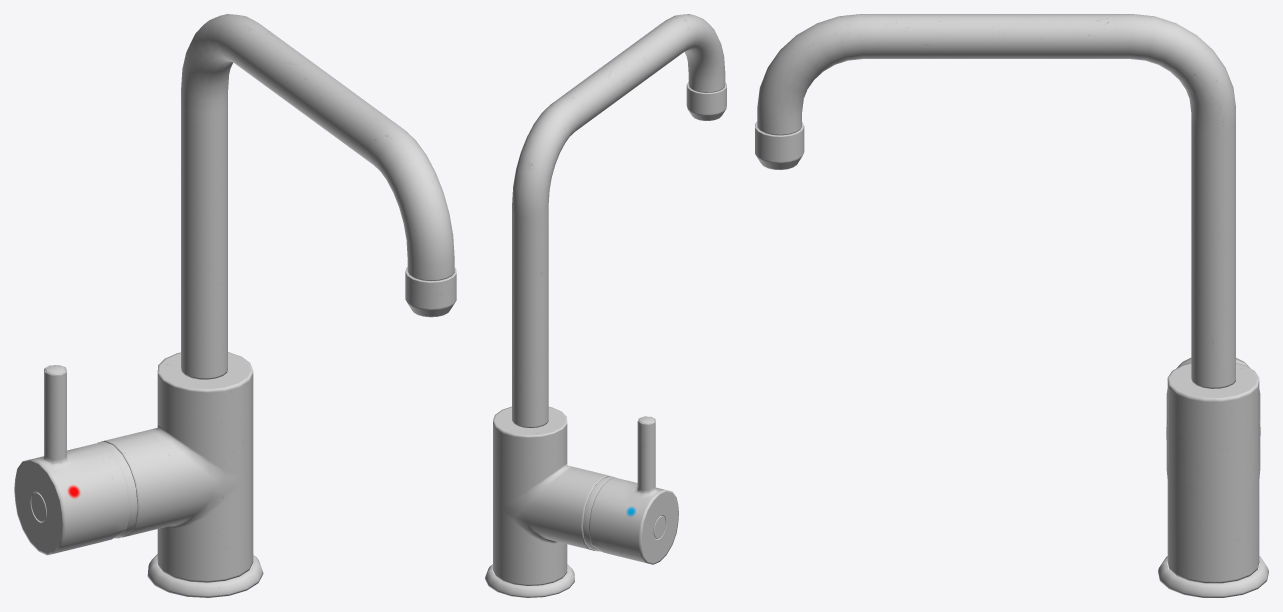
The model's file is fauset.gltf.
3 renders of one model, left to right at view 1: azimuth 30°, elevation 25°; view 2: azimuth 150°, elevation 25°; view 3: azimuth 270°, elevation 25°, orthographic. The views are drawn at different scales.
Parts seen in each view (by area): view 1: mis35_base_low, mis35_Up_low; view 2: mis35_base_low, mis35_Up_low; view 3: mis35_Up_low, mis35_base_low.
Part boxes in pixels (x1,y1,x2,y2): mis35_base_low: (14,352,263,597); mis35_Up_low: (181,14,456,379); mis35_base_low: (485,406,678,597); mis35_Up_low: (512,14,726,427); mis35_Up_low: (755,14,1235,388); mis35_base_low: (1158,358,1268,597).
Size of the model in its own units: 0.1198 by 0.3087 by 0.2575.
Materials: 1 (1 with a texture image).
